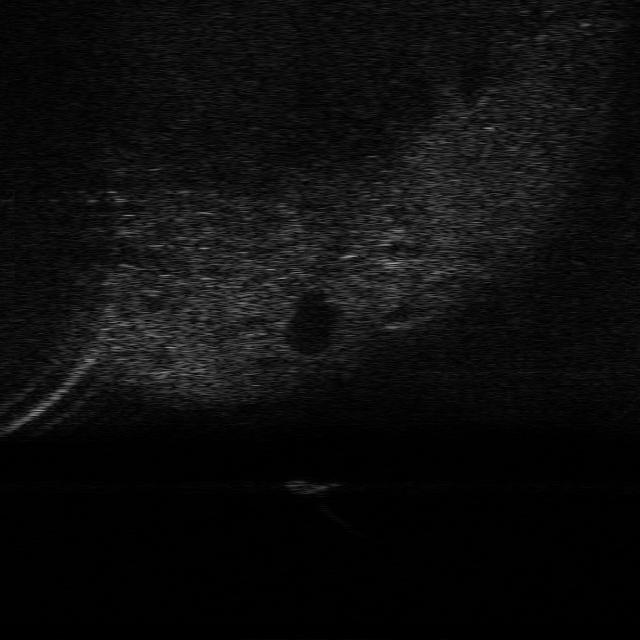cube: (282, 474, 338, 495)
